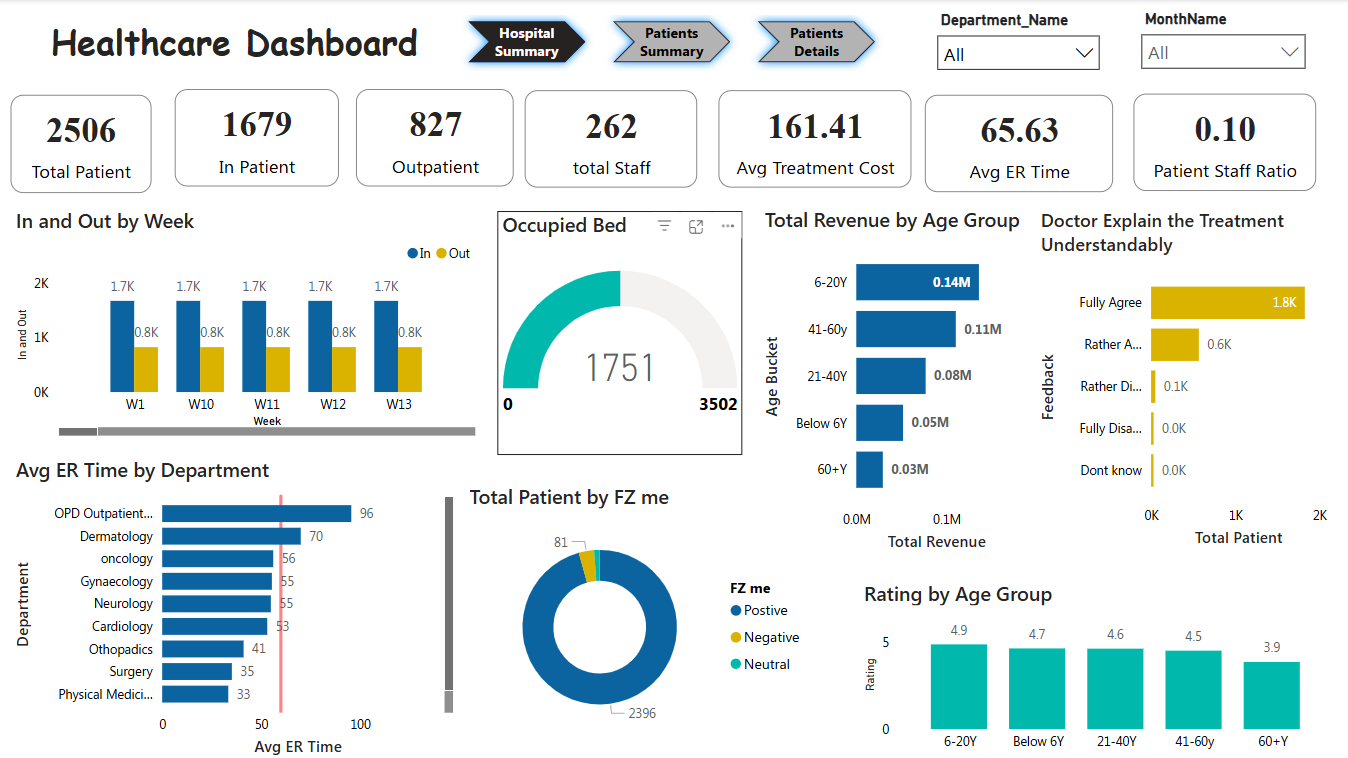

The page's visual inventory and layout, read from the dashboard file:
{"tool":"powerbi","page":{"name":"Hospital Summary ","canvas":[1280,720],"ordinal":0},"visuals":[{"type":"cardVisual","fields":{"Data":["Measure.Total Patient"]},"box":[12.3,90.5,133,93.2],"z":1000},{"type":"textbox","box":[33,13.4,380.2,64.8],"z":2000},{"type":"slicer","fields":{"Values":["Department.Department_Name"]},"box":[878.9,6.1,173.6,69.7],"z":3000},{"type":"slicer","fields":{"Values":["Calendar_date.MonthName"]},"box":[1070.9,6.5,174.5,70],"z":4000},{"type":"cardVisual","fields":{"Data":["Measure.In Patient"]},"box":[167.3,85,154.9,91.9],"z":5000},{"type":"cardVisual","fields":{"Data":["Measure.Outpatient"]},"box":[338.6,85,149.4,91.9],"z":6000},{"type":"cardVisual","fields":{"Data":["Bed_Detail.total Staff"]},"box":[497.7,86.4,163.2,91.9],"z":7000},{"type":"cardVisual","fields":{"Data":["Measure.Avg Treatment Cost"]},"box":[681.4,86.4,182.3,91.9],"z":8000},{"type":"cardVisual","fields":{"Data":["Measure.Avg ER Time"]},"box":[876.1,90.5,178.2,91.9],"z":9000},{"type":"cardVisual","fields":{"Data":["Bed_Detail.Patient Staff Ratio"]},"box":[1073.5,89.1,172.8,91.9],"z":10000},{"type":"clusteredColumnChart","fields":{"Y":["Calendar_date.In Patient","Calendar_date.Outpatient"],"Category":["Calendar_date.WeekName"]},"box":[12.3,196.1,444.2,222.1],"z":11000},{"type":"gauge","fields":{"Y":["Divide(Measure.Occupied Bed, ScopedEval(Measure.Occupied Bed, []))"]},"box":[471.9,200.5,232.3,231],"z":12000},{"type":"clusteredBarChart","title":"Total Revenue by Age Group","fields":{"Y":["Measure.Total Revenue"],"Category":["Detail data dataset.Age Bucket"]},"box":[720,195.6,262.8,331.3],"z":13000},{"type":"barChart","fields":{"Y":["Measure.Avg ER Time"],"Category":["Department.Department_Name"]},"box":[12.3,431.9,423.7,287.9],"z":14000},{"type":"barChart","title":"Doctor Explain the Treatment Understandably","fields":{"Y":["Measure.Total Patient"],"Category":["Detail data dataset.Feedback"]},"box":[981.2,197.5,287.5,326.2],"z":15000},{"type":"columnChart","title":"Rating by Age Group","fields":{"Y":["Measure.Rating"],"Category":["Detail data dataset.Age Bucket"]},"box":[814.4,548.4,453.8,171.4],"z":16000},{"type":"donutChart","fields":{"Y":["Measure.Total Patient"],"Category":["Detail data dataset.FZ me"]},"box":[441.3,457.2,331.3,249.4],"z":17000},{"type":"pageNavigator","box":[436.4,13.4,402.2,55],"z":18000}]}

Visuals, with their boxes in screenshot pixels (x1, y1, x2, y2), scaled from the page's 1280x720 canvas onto the 1348x758 screenshot:
cardVisual - Measure.Total Patient: bbox=[13, 95, 153, 193]
textbox: bbox=[35, 14, 435, 82]
slicer - Department.Department_Name: bbox=[926, 6, 1108, 80]
slicer - Calendar_date.MonthName: bbox=[1128, 7, 1312, 81]
cardVisual - Measure.In Patient: bbox=[176, 89, 339, 186]
cardVisual - Measure.Outpatient: bbox=[357, 89, 514, 186]
cardVisual - Bed_Detail.total Staff: bbox=[524, 91, 696, 188]
cardVisual - Measure.Avg Treatment Cost: bbox=[718, 91, 910, 188]
cardVisual - Measure.Avg ER Time: bbox=[923, 95, 1110, 192]
cardVisual - Bed_Detail.Patient Staff Ratio: bbox=[1131, 94, 1313, 191]
clusteredColumnChart - Calendar_date.In Patient x Calendar_date.Outpatient: bbox=[13, 206, 481, 440]
gauge - Divide(Measure.Occupied Bed, ScopedEval(Measure.Occupied Bed, [])): bbox=[497, 211, 742, 454]
"Total Revenue by Age Group" clusteredBarChart: bbox=[758, 206, 1035, 555]
barChart - Measure.Avg ER Time x Department.Department_Name: bbox=[13, 455, 459, 757]
"Doctor Explain the Treatment Understandably" barChart: bbox=[1033, 208, 1336, 551]
"Rating by Age Group" columnChart: bbox=[858, 577, 1336, 757]
donutChart - Measure.Total Patient x Detail data dataset.FZ me: bbox=[465, 481, 814, 744]
pageNavigator: bbox=[460, 14, 883, 72]
